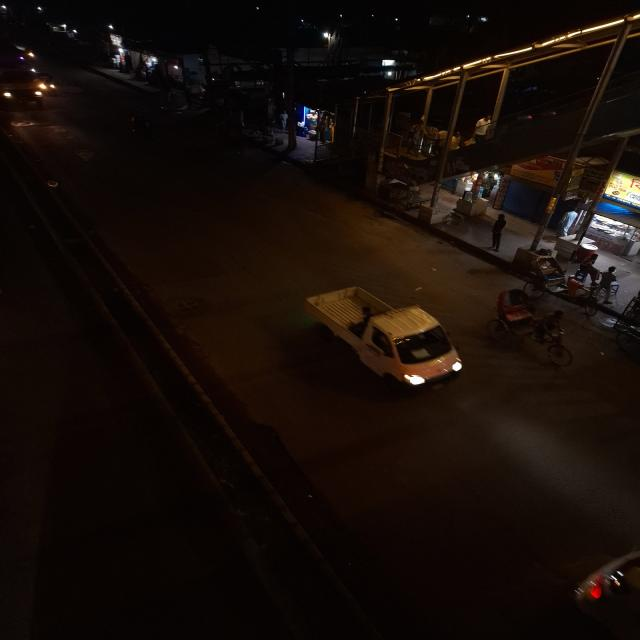pedestrian: (489, 212, 506, 254)
pickup_van: (308, 288, 472, 399)
rickshaw: (492, 285, 580, 373)
